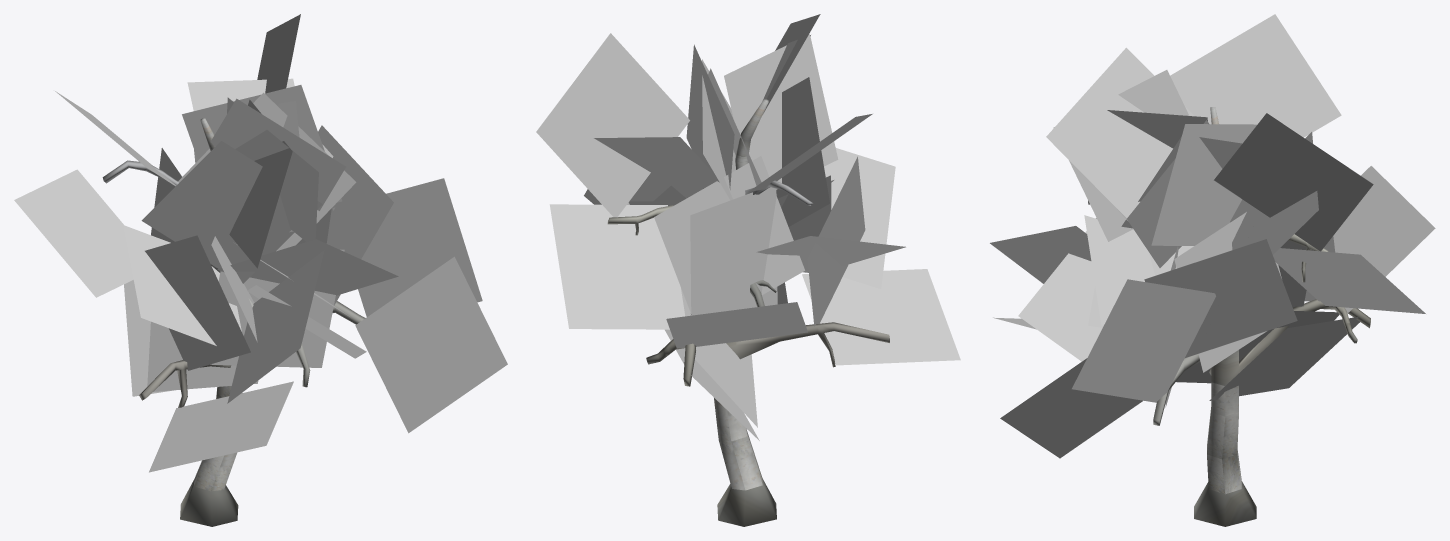
The model's file is deadtree1test 2.fbx.
3 views of the same model, side by side, from view 1: azimuth 30°, elevation 25°; view 2: azimuth 150°, elevation 25°; view 3: azimuth 270°, elevation 25° (orthographic). The views are drawn at different scales.
Parts seen in each view (by area): view 1: Plane.006, Plane.017, Plane.007, Plane.024, Plane.032, Plane.030, Plane.016, Cube, Plane.009, Plane.027, Plane.013, Plane.026 (+13 smaller); view 2: Plane.022, Plane.005, Plane.032, Cube, Plane.023, Plane.011, Plane.019, Plane.017, Plane.016, Plane.012, Plane.024, Plane.030 (+10 smaller); view 3: Plane.014, Plane.007, Plane.005, Plane.004, Plane.027, Cube, Plane.028, Plane.006, Plane.024, Plane.022, Plane.018, Plane.020 (+11 smaller).
Part boxes in pixels (x1=…): Plane.006: x1=355, y1=256, x2=507, y2=433; Plane.017: x1=141, y1=141, x2=322, y2=283; Plane.007: x1=332, y1=178, x2=482, y2=316; Plane.024: x1=14, y1=169, x2=133, y2=297; Plane.032: x1=149, y1=381, x2=293, y2=472; Plane.030: x1=145, y1=235, x2=250, y2=370; Plane.016: x1=227, y1=250, x2=324, y2=403; Cube: x1=102, y1=118, x2=365, y2=526; Plane.009: x1=217, y1=239, x2=398, y2=295; Plane.027: x1=318, y1=125, x2=393, y2=305; Plane.013: x1=123, y1=225, x2=241, y2=345; Plane.026: x1=227, y1=97, x2=318, y2=241; Plane.022: x1=549, y1=204, x2=685, y2=329; Plane.005: x1=536, y1=33, x2=689, y2=217; Plane.032: x1=802, y1=269, x2=960, y2=365; Cube: x1=607, y1=99, x2=889, y2=526; Plane.023: x1=690, y1=187, x2=777, y2=315; Plane.011: x1=724, y1=34, x2=838, y2=189; Plane.019: x1=654, y1=156, x2=804, y2=313; Plane.017: x1=776, y1=77, x2=829, y2=226; Plane.016: x1=824, y1=148, x2=895, y2=288; Plane.012: x1=594, y1=137, x2=719, y2=201; Plane.024: x1=666, y1=302, x2=807, y2=349; Plane.030: x1=807, y1=156, x2=865, y2=326; Plane.014: x1=1170, y1=14, x2=1341, y2=137; Plane.007: x1=1072, y1=279, x2=1215, y2=402; Plane.005: x1=1214, y1=113, x2=1373, y2=251; Plane.004: x1=1046, y1=47, x2=1194, y2=217; Plane.027: x1=1144, y1=239, x2=1297, y2=357; Cube: x1=1153, y1=107, x2=1370, y2=526; Plane.028: x1=1151, y1=124, x2=1256, y2=245; Plane.006: x1=1000, y1=358, x2=1142, y2=458; Plane.024: x1=1333, y1=166, x2=1435, y2=312; Plane.022: x1=1273, y1=248, x2=1425, y2=313; Plane.018: x1=1018, y1=231, x2=1102, y2=361; Plane.020: x1=1209, y1=316, x2=1359, y2=400.
Size of the model in its own units: 1349 by 1773 by 1578.
